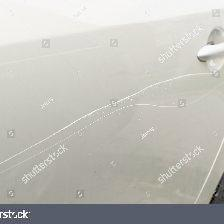door_scratch: (3, 77, 214, 165)
